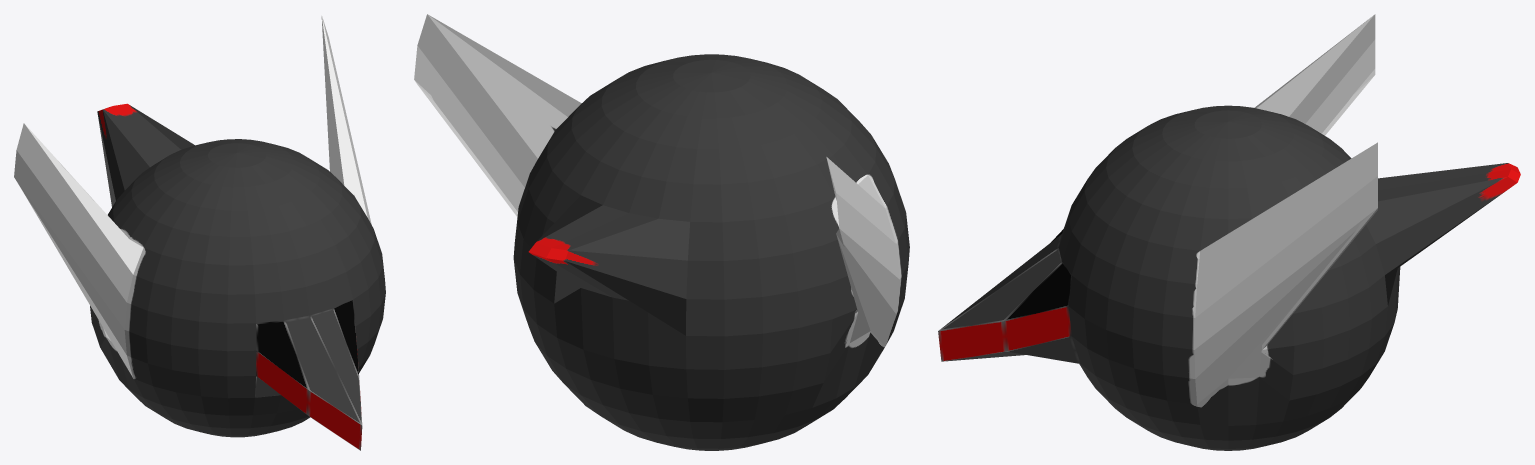
Rendered from Player.obj.
The picture shows the model from 3 angles, left to right: view 1: azimuth 30°, elevation 25°; view 2: azimuth 150°, elevation 25°; view 3: azimuth 270°, elevation 25°; orthographic projection. The views are drawn at different scales.
Visible parts, largest first — view 1: 球.001; view 2: 球.001; view 3: 球.001.
Boxes of the visible parts, <box> form: 球.001: <box>14,15,385,450</box>; 球.001: <box>414,14,909,450</box>; 球.001: <box>938,14,1520,450</box>.
Size of the model in its own units: 2.46 by 2.41 by 3.37.
1 material, 1 textured.
